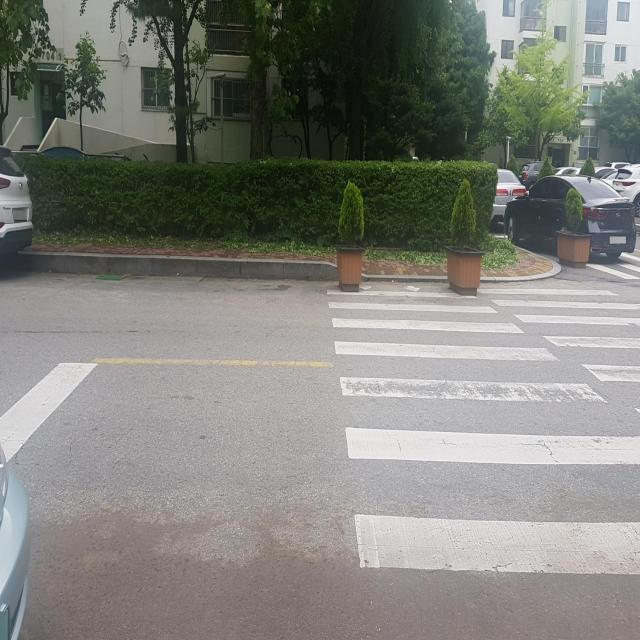횡단보도: (328, 275, 640, 573)
